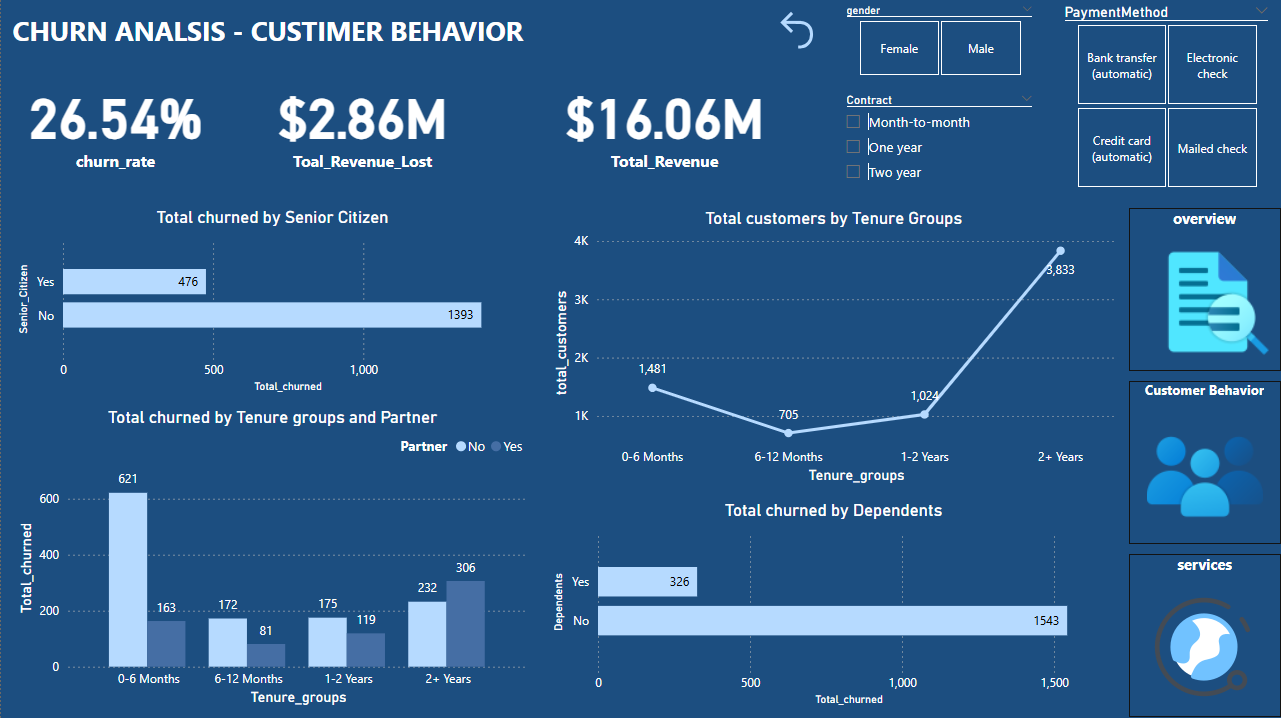

The dashboard page shown, as its layout file describes it:
{"tool":"powerbi","page":{"name":"Customer Behavior","canvas":[1280,720],"ordinal":1},"visuals":[{"type":"slicer","fields":{"Values":["Customer_Churn.gender"]},"box":[833,0,210.8,82.5],"z":0,"group":"g1"},{"type":"image","box":[1134.9,235.4,145.1,135.4],"z":0,"group":"g2"},{"type":"image","box":[1136,593,135,110],"z":500,"group":"g2"},{"type":"slicer","fields":{"Values":["Customer_Churn.PaymentMethod"]},"box":[1051.2,0,228.8,194.7],"z":1000,"group":"g1"},{"type":"image","box":[1136.5,410.8,135.2,126.2],"z":1000,"group":"g2"},{"type":"card","fields":{"Values":["measures (2).Total_Revenue"]},"box":[500.6,51.2,325.3,143.5],"z":2000},{"type":"slicer","fields":{"Values":["Customer_Churn.Contract"]},"box":[833,89.4,210.8,109.6],"z":2000,"group":"g1"},{"type":"pageNavigator","box":[1128,209,151.6,511],"z":2000,"group":"g2"},{"type":"card","fields":{"Values":["measures (2).Revenue_Lost"]},"box":[222.4,51.2,278.2,144.1],"z":3000},{"type":"barChart","title":"Total churned by Senior Citizen","fields":{"Y":["measures (2).Total_churned"],"Category":["Customer_Churn.Senior_Citizen"]},"box":[12.3,208.5,520,190],"z":4000},{"type":"barChart","title":"Total churned by Dependents","fields":{"Category":["Customer_Churn.Dependents"],"Y":["measures (2).Total_churned"]},"box":[547,501,572,210],"z":5000},{"type":"group","id":"g1","title":"Group 2","box":[833,0,447,199],"z":5500},{"type":"clusteredColumnChart","title":"Total churned by Tenure groups and Partner","fields":{"Category":["Tenure_maping.Tenure_Buckets"],"Y":["measures (2).Total_churned"],"Series":["Customer_Churn.Partner"]},"box":[12,408,520,303],"z":6000},{"type":"lineChart","title":"Total customers by Tenure Groups","fields":{"Category":["Tenure_maping.Tenure_Buckets"],"Y":["measures (2).total_customers"]},"box":[547,209,572,280],"z":7000},{"type":"group","id":"g2","title":"Group 1","box":[1128,209,152,511],"z":8000},{"type":"card","fields":{"Values":["measures (2).churn_rate"]},"box":[7.1,51.2,215.3,144.1],"z":9000},{"type":"textbox","box":[6.7,7.8,540,51.1],"z":10000},{"type":"actionButton","box":[767,7,59,44],"z":11000}]}

Visuals, with their boxes in screenshot pixels (x1, y1, x2, y2), scaled from the page's 1280x720 canvas onto the 1281x718 screenshot:
slicer - Customer_Churn.gender: 834/0/1045/82
image: 1136/235/1280/370
image: 1137/591/1272/701
slicer - Customer_Churn.PaymentMethod: 1052/0/1280/194
image: 1137/410/1273/536
card - measures (2).Total_Revenue: 501/51/827/194
slicer - Customer_Churn.Contract: 834/89/1045/198
pageNavigator: 1129/208/1280/717
card - measures (2).Revenue_Lost: 223/51/501/195
"Total churned by Senior Citizen" barChart: 12/208/533/397
"Total churned by Dependents" barChart: 547/500/1120/709
"Group 2" group: 834/0/1280/198
"Total churned by Tenure groups and Partner" clusteredColumnChart: 12/407/532/709
"Total customers by Tenure Groups" lineChart: 547/208/1120/488
"Group 1" group: 1129/208/1280/717
card - measures (2).churn_rate: 7/51/223/195
textbox: 7/8/547/59
actionButton: 768/7/827/51
